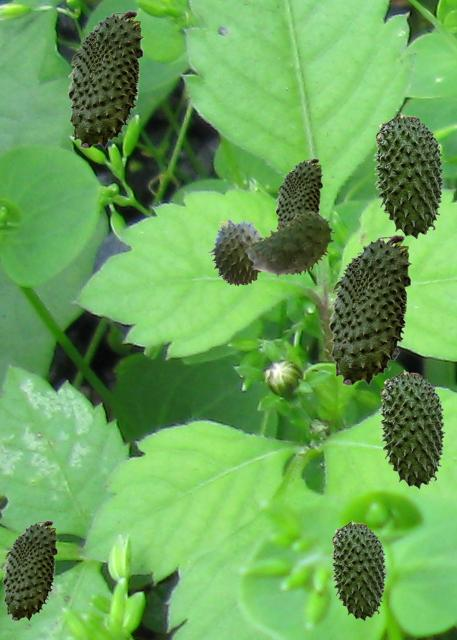guyabano: (328, 234, 411, 385), (67, 10, 143, 148), (373, 112, 444, 238), (378, 369, 445, 488), (240, 211, 333, 278), (330, 520, 386, 620), (2, 520, 57, 620), (207, 218, 262, 285), (275, 158, 322, 229)
